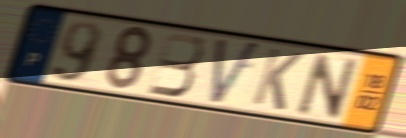8: (104, 25, 152, 92)
9: (48, 19, 108, 83)
B: (145, 30, 206, 99)
K: (249, 45, 306, 113)
N: (295, 50, 362, 121)
V: (208, 36, 264, 109)
